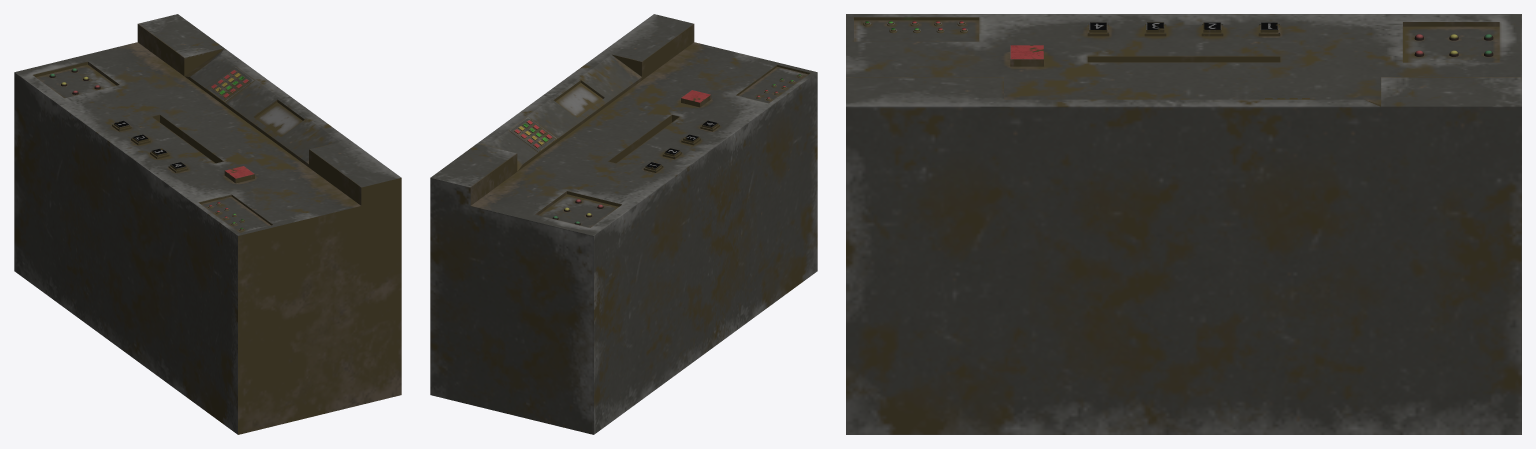
Rendered from Control Panel.fbx.
3 views of the same model, side by side, from view 1: azimuth 30°, elevation 25°; view 2: azimuth 150°, elevation 25°; view 3: azimuth 270°, elevation 25° (orthographic). The views are drawn at different scales.
Visible parts, largest first — view 1: Painel; view 2: Painel; view 3: Painel.
Part boxes in pixels (left/top/right/bottom): Painel: left=14, top=14, right=401, bottom=434; Painel: left=430, top=14, right=817, bottom=434; Painel: left=846, top=14, right=1521, bottom=434.
Bounding box in the file's own units: 70.23 × 89.19 × 166.
